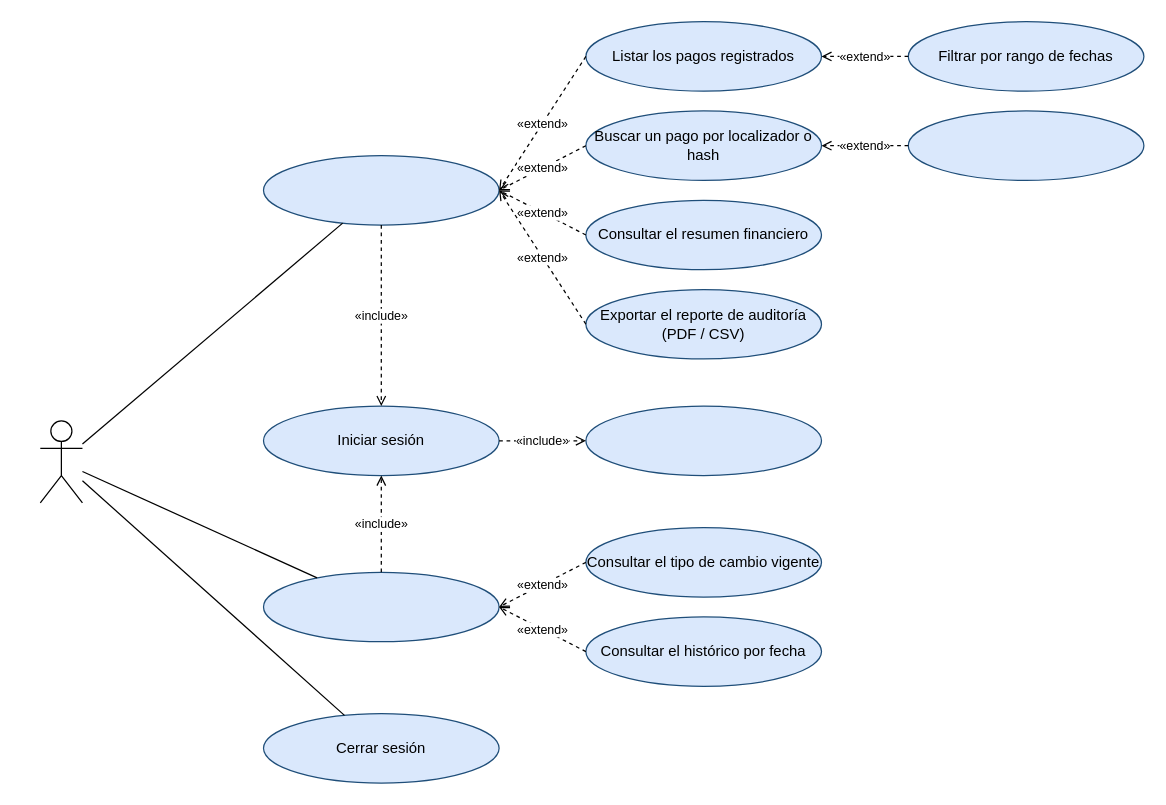
The diagram is 1166 pixels wide and 805 high, and some of its shapes have lost their labels. Here are the shapes that lost their labels. From the top down, the centre of each, then its label:
At (x=1025, y=145): "Ver el detalle de la transacción".
At (x=380, y=189): "Gestionar la conciliación de pagos".
At (x=703, y=440): "Limitar los intentos fallidos".
At (x=60, y=461): "Personal de Finanzas".
At (x=380, y=606): "Gestionar los tipos de cambio".
